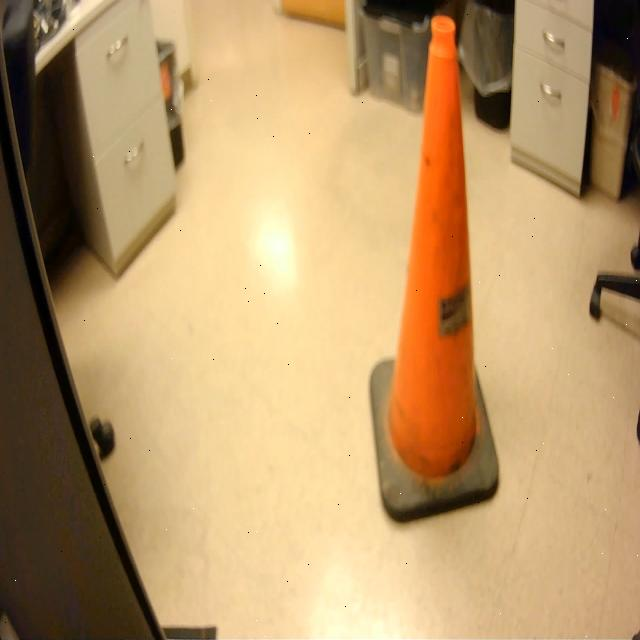traffic cone: (367, 12, 505, 536)
